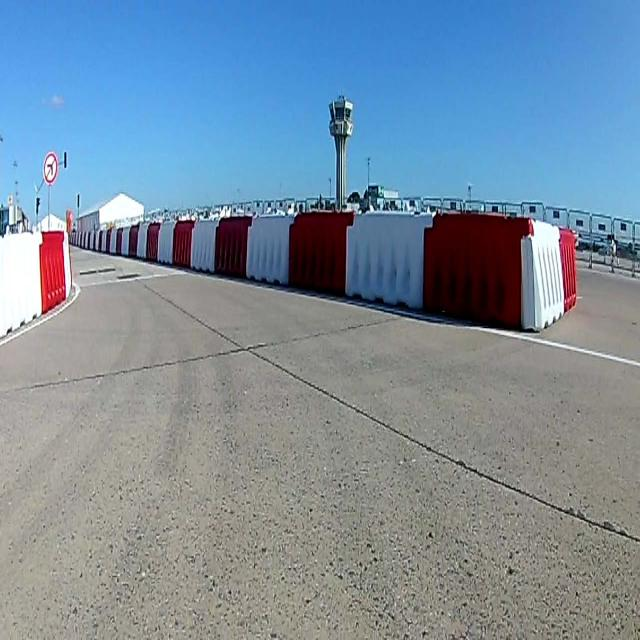soladonulmez: (43, 148, 58, 186)
